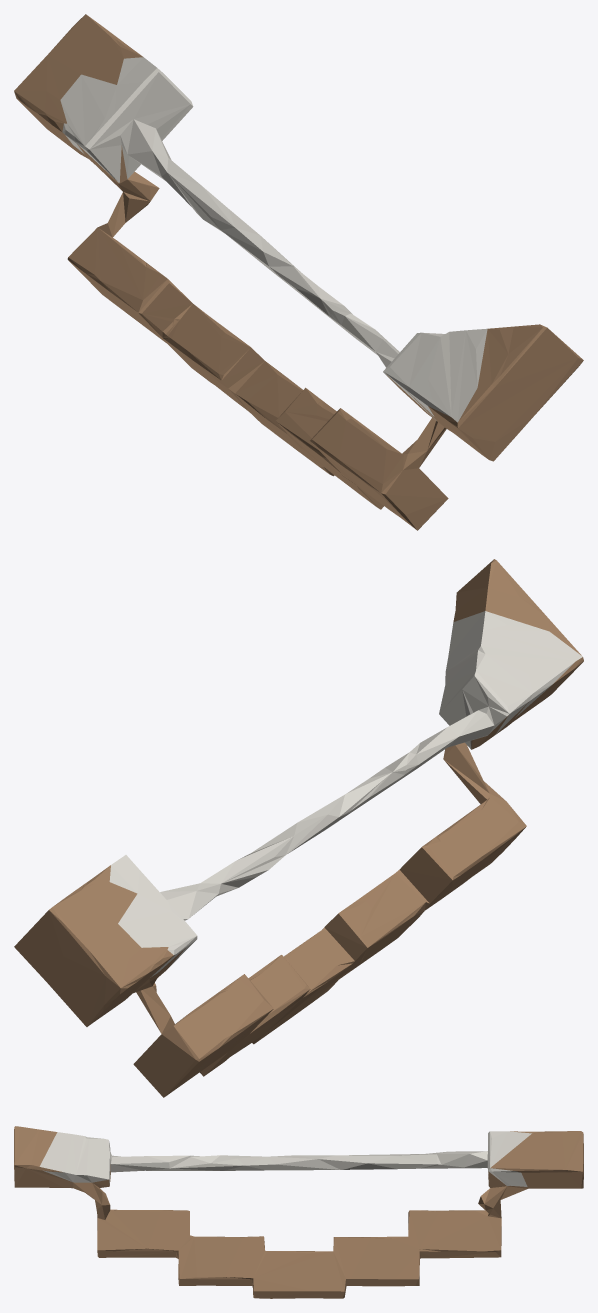
The model's file is s_bow.glb.
The picture shows the model from 3 angles, top to bottom: view 1: azimuth 30°, elevation 25°; view 2: azimuth 150°, elevation 25°; view 3: azimuth 270°, elevation 25°; orthographic projection. The views are drawn at different scales.
Parts seen in each view (by area): view 1: s_bow; view 2: s_bow; view 3: s_bow.
Boxes of the visible parts, box(x1,y1,x2,y2) form: s_bow: box(14, 14, 583, 530); s_bow: box(14, 559, 583, 1097); s_bow: box(14, 1126, 583, 1298).
Bounding box in the file's own units: 0.1406 × 0.2797 × 0.8071.
